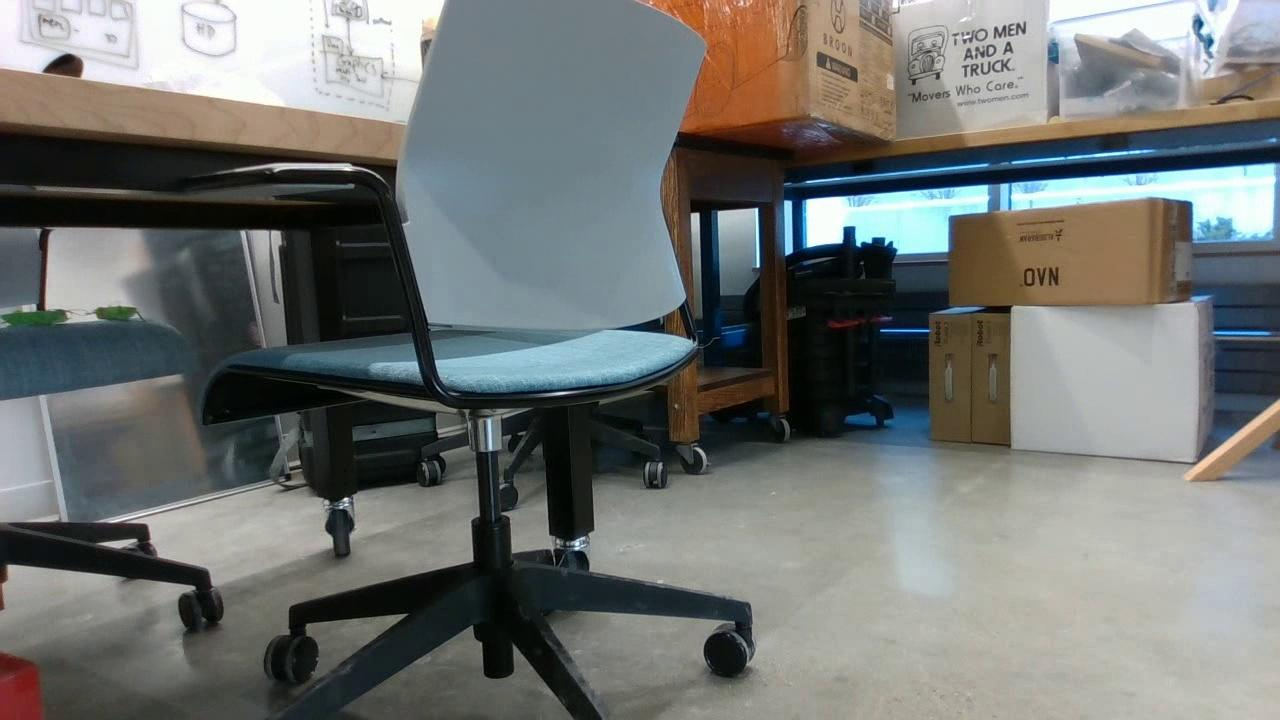grasshopper: (1, 311, 69, 328), (89, 305, 145, 323)
